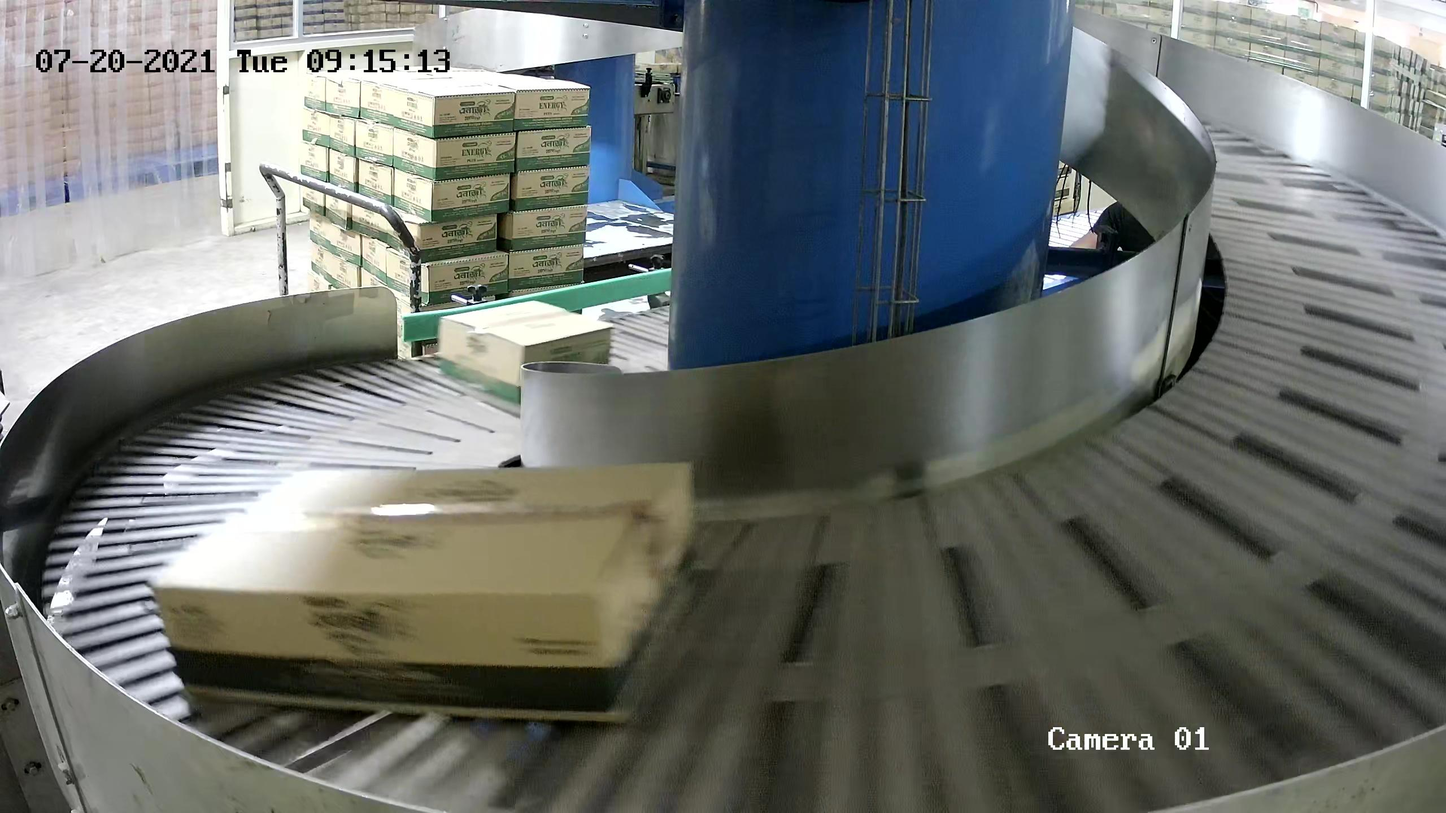Box: (147, 459, 692, 724), (437, 300, 613, 404)
